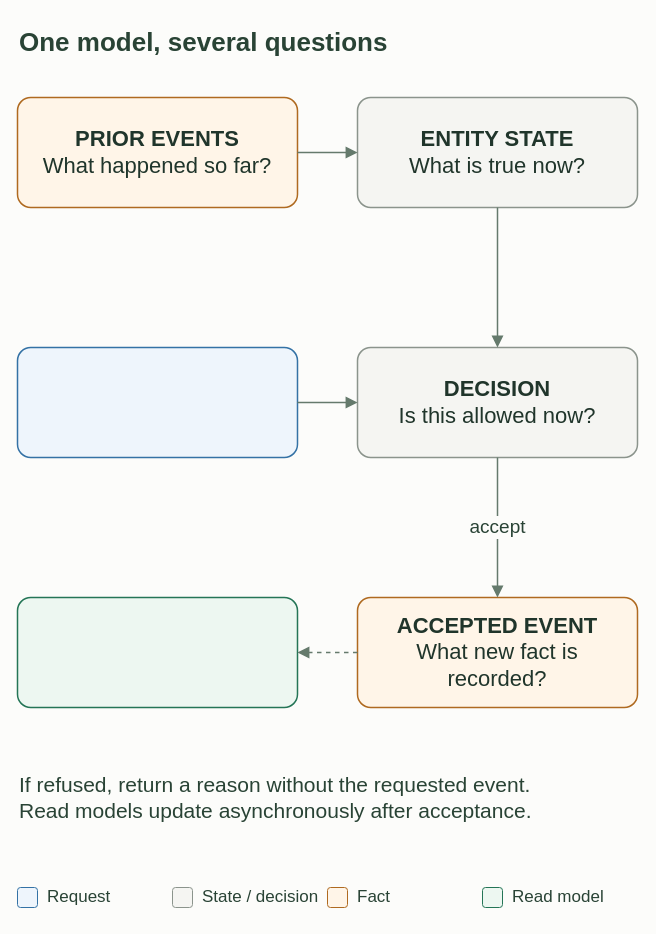
This 656x934 diagram has some shape labels left out. Each missing label, with the box of its shape:
COMMAND What is being requested?: (16, 346, 298, 458)
QUERY / READ MODEL What does the reader need?: (16, 596, 298, 708)
